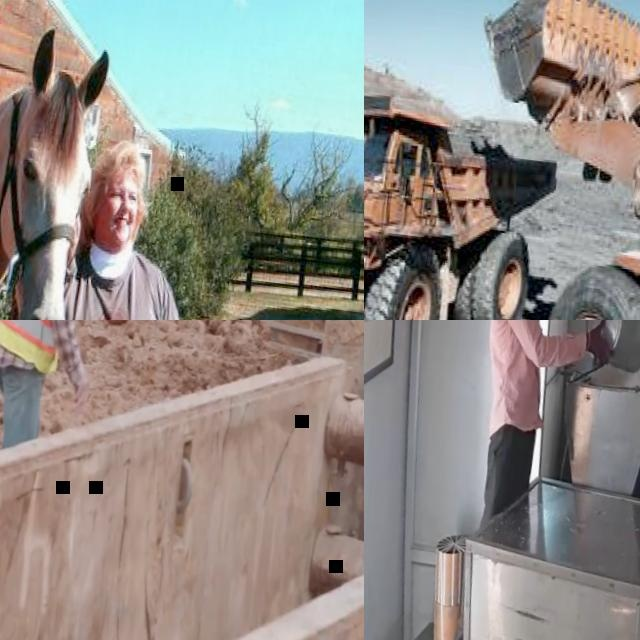NO-Hardhat: (95, 138, 149, 189)
NO-Mask: (95, 205, 135, 247)
NO-Safety Vest: (20, 251, 178, 320), (474, 320, 561, 436)
Person: (426, 320, 638, 640), (17, 129, 222, 320), (0, 320, 129, 452)
machinery: (423, 0, 640, 320), (364, 62, 569, 320)
